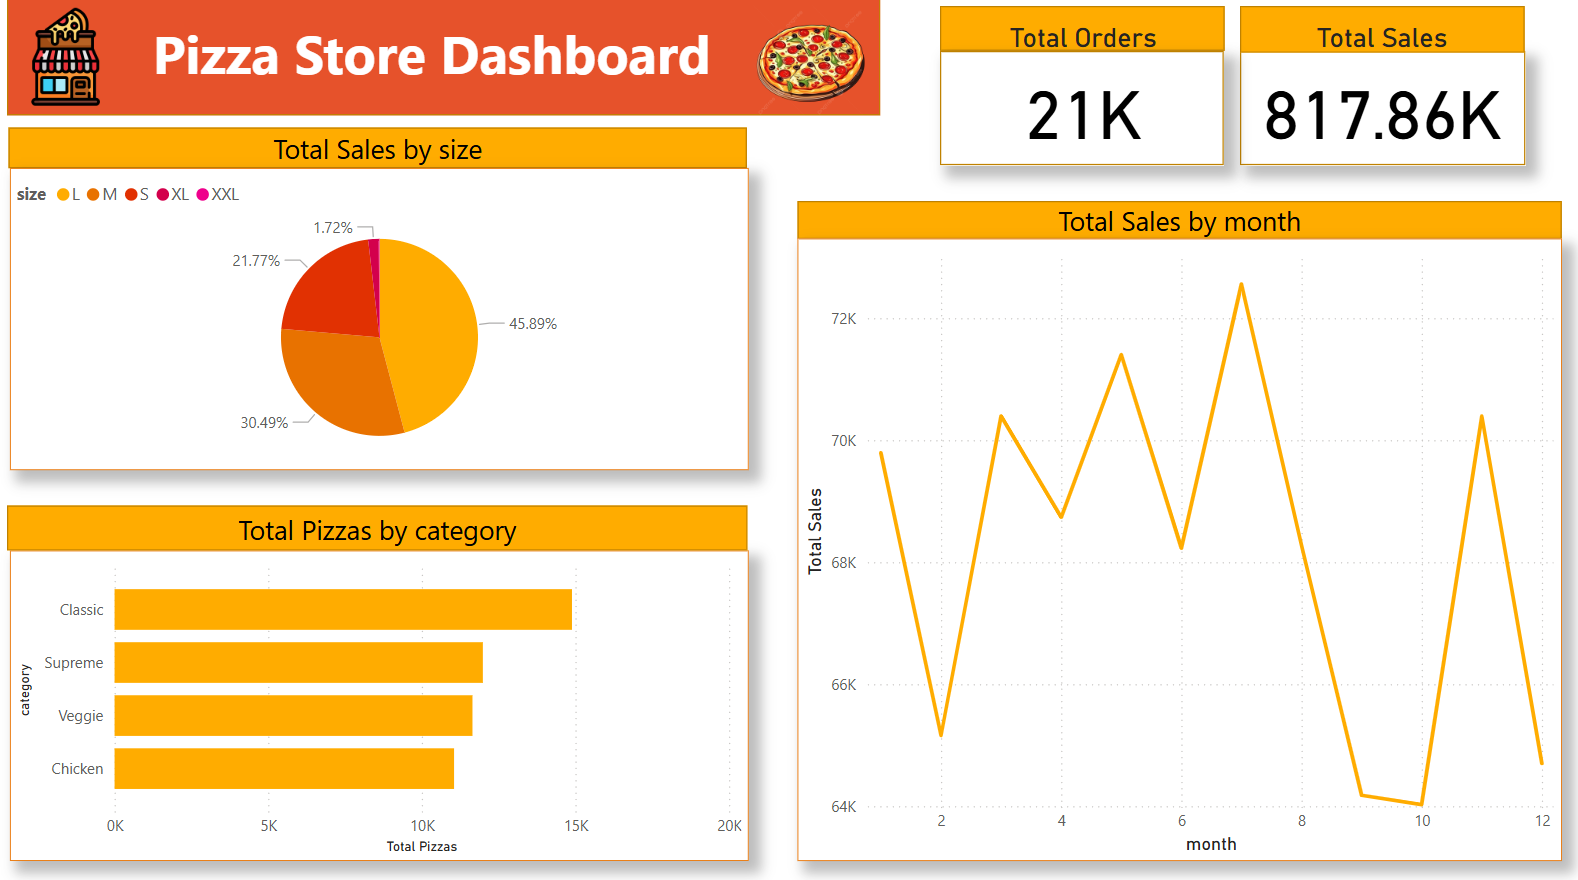

What the dashboard file says about the page in this screenshot:
{"tool":"powerbi","page":{"name":"dashboard","canvas":[1280,720],"ordinal":0},"visuals":[{"type":"shape","box":[647.2,163.9,613.9,30.6],"z":0},{"type":"shape","box":[13.8,105.2,593.1,32.8],"z":1000},{"type":"shape","box":[1002,43.3,229.2,91.7],"z":2000},{"type":"shape","box":[761.1,7.8,228.6,36],"z":3000},{"type":"shape","box":[1002.3,7.8,228.6,37.6],"z":4000},{"type":"shape","box":[761.4,43.3,227.9,91.7],"z":5000},{"type":"shape","box":[12.4,0,701.5,95],"z":6000},{"type":"image","box":[14.1,0,89.3,95.5],"z":7000},{"type":"card","title":"Total Sales","fields":{"Values":["order_details.Total Sales"]},"box":[1000.7,20.4,230.5,109.5],"z":8000},{"type":"card","title":"Total Orders","fields":{"Values":["order_details.Total Orders"]},"box":[777.9,20.4,196.1,109.5],"z":9000},{"type":"lineChart","fields":{"Y":["order_details.Total Sales"],"Category":["orders.month"]},"box":[647.2,194.4,613.9,500],"z":10000},{"type":"barChart","fields":{"Y":["order_details.Total Pizzas"],"Category":["pizza_types.category"]},"box":[14.1,444.8,593.5,249],"z":11000},{"type":"pieChart","fields":{"Category":["pizzas.size"],"Y":["order_details.Total Sales"]},"box":[14.1,137.8,593.5,242.7],"z":12000},{"type":"textbox","box":[123.7,11,573.2,84.6],"z":13000},{"type":"shape","box":[12.1,408.6,594.8,36.2],"z":14000},{"type":"image","box":[599.6,0,114.3,105.2],"z":15000}]}

Visuals, with their boxes in screenshot pixels (x1, y1, x2, y2), scaled from the page's 1280x720 canvas onto the 1578x880 screenshot:
shape: [798, 200, 1555, 238]
shape: [17, 129, 748, 169]
shape: [1235, 53, 1518, 165]
shape: [938, 10, 1220, 54]
shape: [1236, 10, 1517, 55]
shape: [939, 53, 1220, 165]
shape: [15, 0, 880, 116]
image: [17, 0, 127, 117]
"Total Sales" card: [1234, 25, 1518, 159]
"Total Orders" card: [959, 25, 1201, 159]
lineChart - order_details.Total Sales x orders.month: [798, 238, 1555, 849]
barChart - order_details.Total Pizzas x pizza_types.category: [17, 544, 749, 848]
pieChart - pizzas.size x order_details.Total Sales: [17, 168, 749, 465]
textbox: [152, 13, 859, 117]
shape: [15, 499, 748, 544]
image: [739, 0, 880, 129]
